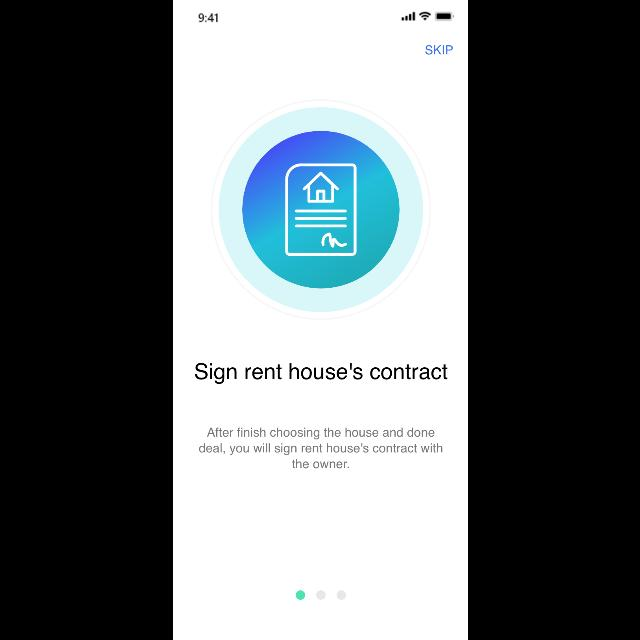image: (210, 97, 430, 320)
pageindicator: (294, 590, 346, 600)
text: (198, 427, 442, 469), (194, 362, 448, 384), (424, 44, 452, 56)
uppertaskbar: (196, 11, 454, 23)
